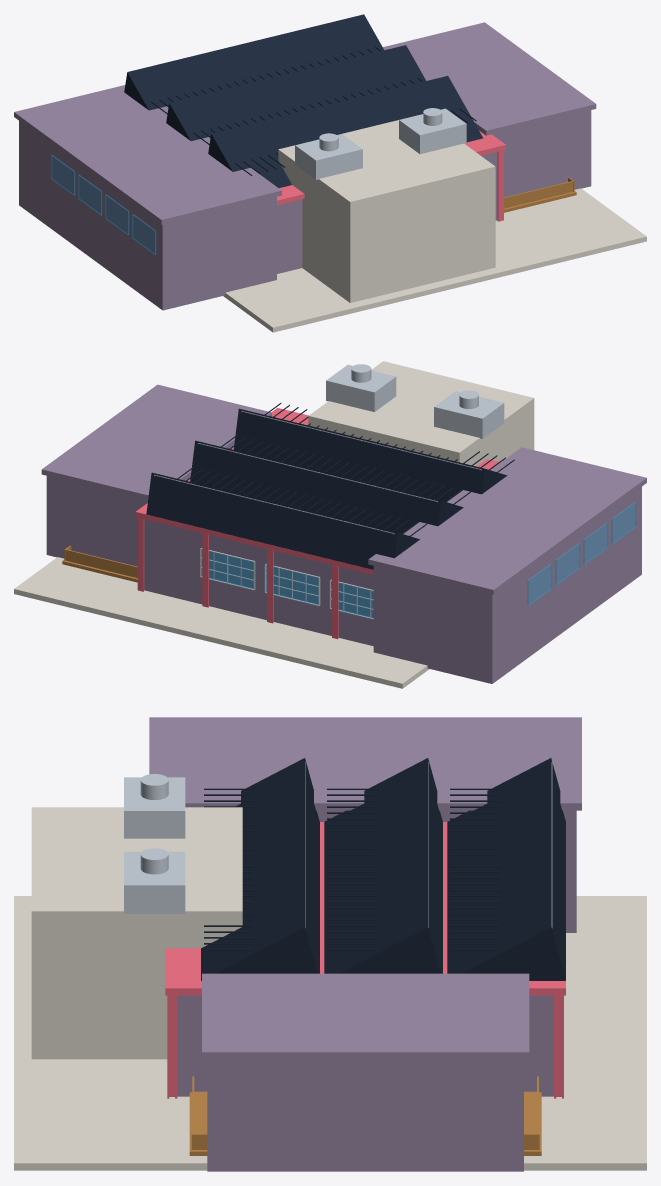
The model's file is hq_04_design_l3.glb.
3 views of the same model, one above another, from view 1: azimuth 30°, elevation 25°; view 2: azimuth 150°, elevation 25°; view 3: azimuth 270°, elevation 25° (orthographic). The views are drawn at different scales.
Visible parts, largest first — view 1: GEO_FullScale_1_to_1_Clay_Hall, GEO_Sawtooth_Roof_Slopes, GEO_Design_Review_Theater, GEO_CAS_Digital_Styling_Wing, GEO_Plinth_Foundation, GEO_Theater_Rooftop_HVAC, GEO_Clay_Hall_West_Clerestory, GEO_Design_Studio_Brick_Hall, GEO_Studio_Structural_IBeams, GEO_Outdoor_Review_Terrace_Deck; view 2: GEO_FullScale_1_to_1_Clay_Hall, GEO_Sawtooth_Roof_Slopes, GEO_CAS_Digital_Styling_Wing, GEO_Plinth_Foundation, GEO_Design_Studio_Brick_Hall, GEO_Design_Review_Theater, GEO_Theater_Rooftop_HVAC, GEO_Studio_Structural_IBeams, GEO_Studio_Ribbon_Glass, GEO_Clay_Hall_West_Clerestory, GEO_Studio_Window_Frames, GEO_Outdoor_Review_Terrace_Deck (+1 smaller); view 3: GEO_CAS_Digital_Styling_Wing, GEO_Sawtooth_Roof_Slopes, GEO_Plinth_Foundation, GEO_Design_Review_Theater, GEO_FullScale_1_to_1_Clay_Hall, GEO_Theater_Rooftop_HVAC, GEO_Studio_Structural_IBeams, GEO_Design_Studio_Brick_Hall, GEO_Outdoor_Review_Terrace_Deck, GEO_Sawtooth_Window_Mullions.
Part boxes in pixels (x1,y1,x2,y2): GEO_FullScale_1_to_1_Clay_Hall: (14,85,281,310); GEO_Sawtooth_Roof_Slopes: (124,14,482,187); GEO_Design_Review_Theater: (278,120,495,302); GEO_CAS_Digital_Styling_Wing: (383,22,596,197); GEO_Plinth_Foundation: (223,188,646,332); GEO_Theater_Rooftop_HVAC: (295,108,466,179); GEO_Clay_Hall_West_Clerestory: (51,155,155,254); GEO_Design_Studio_Brick_Hall: (277,152,497,273); GEO_Studio_Structural_IBeams: (277,131,505,221); GEO_Outdoor_Review_Terrace_Deck: (504,177,576,212); GEO_FullScale_1_to_1_Clay_Hall: (368,447,646,683); GEO_Sawtooth_Roof_Slopes: (146,403,514,569); GEO_CAS_Digital_Styling_Wing: (41,384,271,566); GEO_Plinth_Foundation: (14,557,429,688); GEO_Design_Studio_Brick_Hall: (144,519,373,646); GEO_Design_Review_Theater: (308,361,534,466); GEO_Theater_Rooftop_HVAC: (326,364,504,438); GEO_Studio_Structural_IBeams: (135,408,500,639); GEO_Studio_Ribbon_Glass: (201,550,373,618); GEO_Clay_Hall_West_Clerestory: (527,502,636,605); GEO_Studio_Window_Frames: (200,548,373,619); GEO_Outdoor_Review_Terrace_Deck: (62,545,137,582); GEO_CAS_Digital_Styling_Wing: (202,973,529,1171); GEO_Sawtooth_Roof_Slopes: (201,758,565,980); GEO_Plinth_Foundation: (14,896,646,1170); GEO_Design_Review_Theater: (31,807,242,1059); GEO_FullScale_1_to_1_Clay_Hall: (149,717,581,932); GEO_Theater_Rooftop_HVAC: (124,774,185,913); GEO_Studio_Structural_IBeams: (165,822,565,1098); GEO_Design_Studio_Brick_Hall: (177,995,553,1096); GEO_Outdoor_Review_Terrace_Deck: (189,1076,541,1155); GEO_Sawtooth_Window_Mullions: (305,762,552,928).
Size of what is drawn, in the model's own units: 43.6 by 12.4 by 36.
